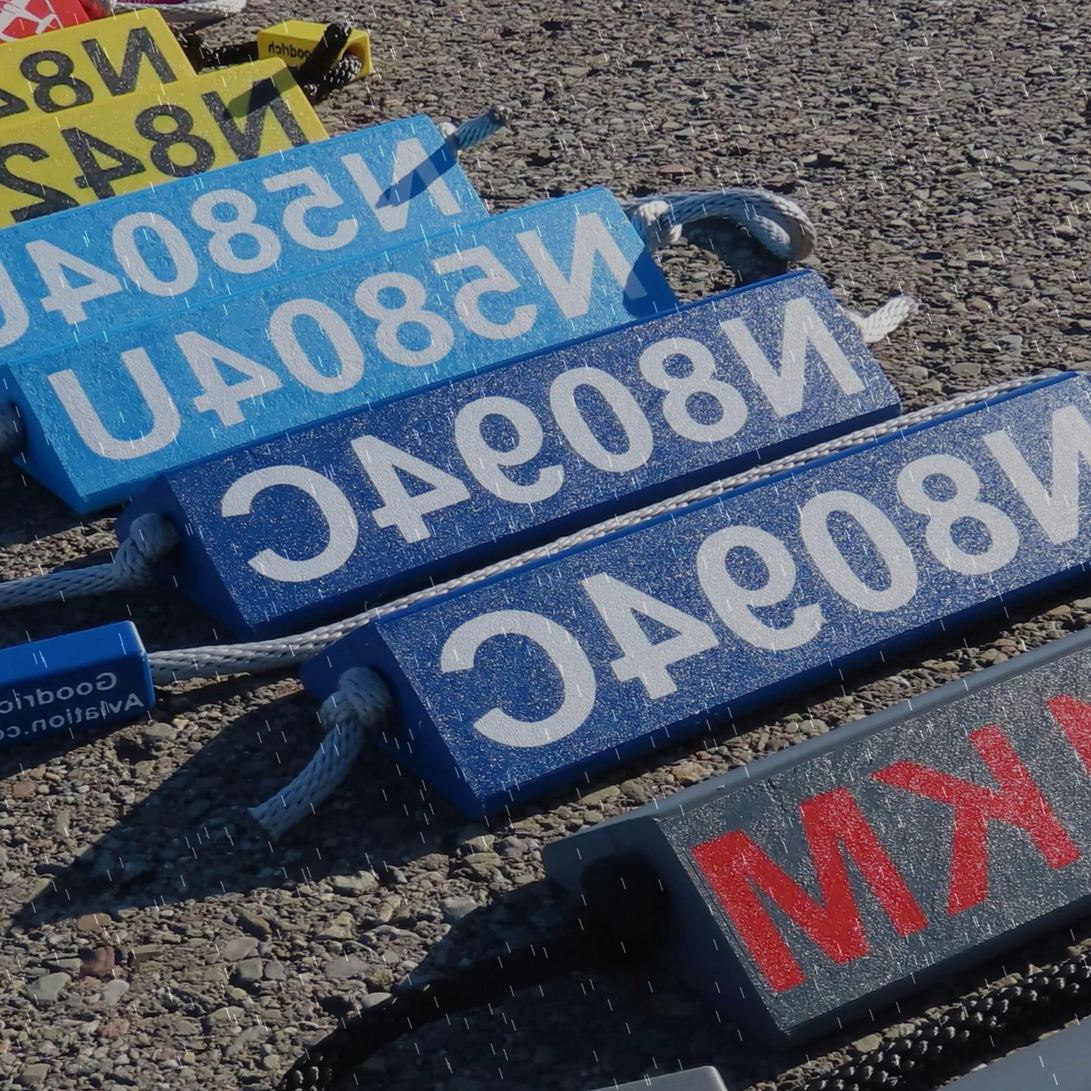chock: (290, 357, 1091, 834), (105, 264, 913, 654), (533, 549, 1091, 1072), (0, 182, 685, 526), (0, 106, 501, 406), (0, 46, 355, 297), (0, 0, 228, 167), (876, 933, 1091, 1091)
